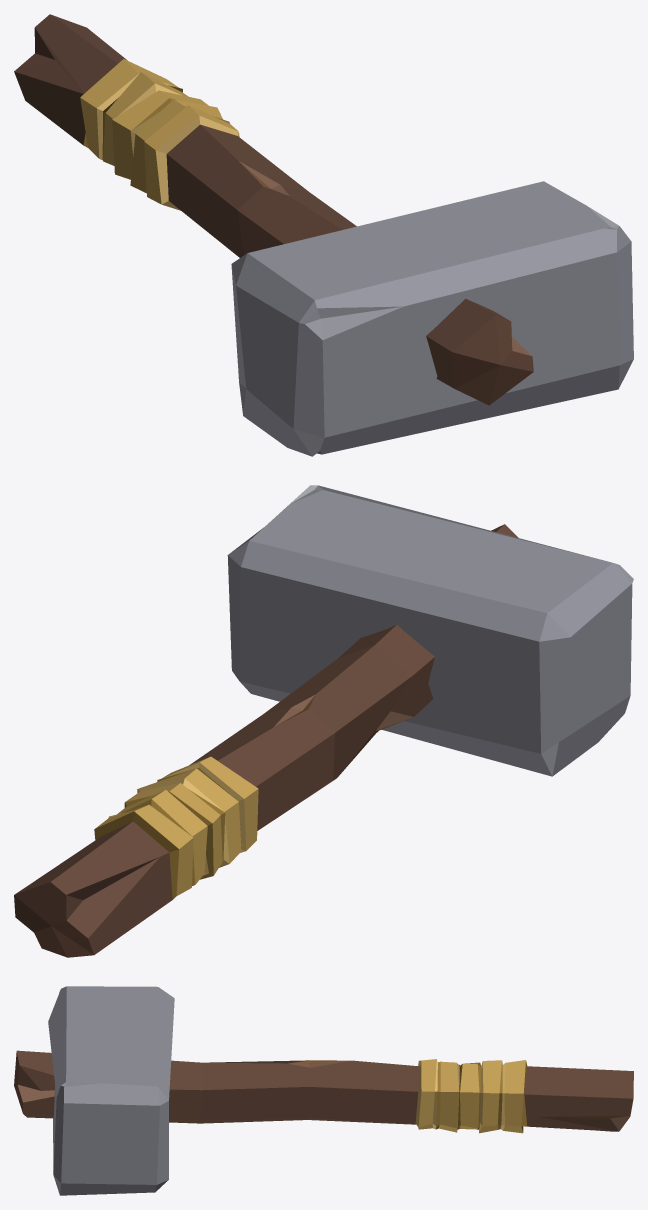
File: Hammer_01.glb
3 views of the same model, one above another, from view 1: azimuth 30°, elevation 25°; view 2: azimuth 150°, elevation 25°; view 3: azimuth 270°, elevation 25° (orthographic). The views are drawn at different scales.
Visible parts, largest first — view 1: Hammer_01; view 2: Hammer_01; view 3: Hammer_01.
Boxes of the visible parts, <box> form: Hammer_01: <box>14,14,633,456</box>; Hammer_01: <box>14,485,633,957</box>; Hammer_01: <box>14,986,633,1195</box>.
Size of what is drawn, in the model's own units: 0.234 by 0.1114 by 0.5454.
1 material, 1 textured.
